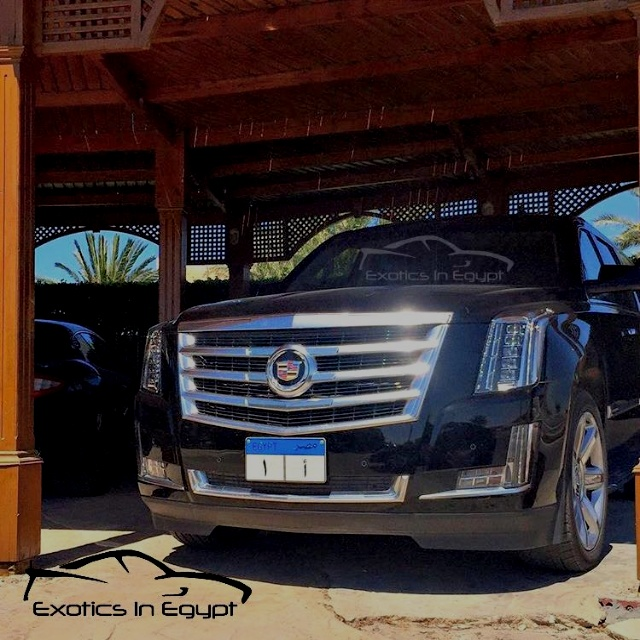License Plate: (243, 435, 327, 485)
